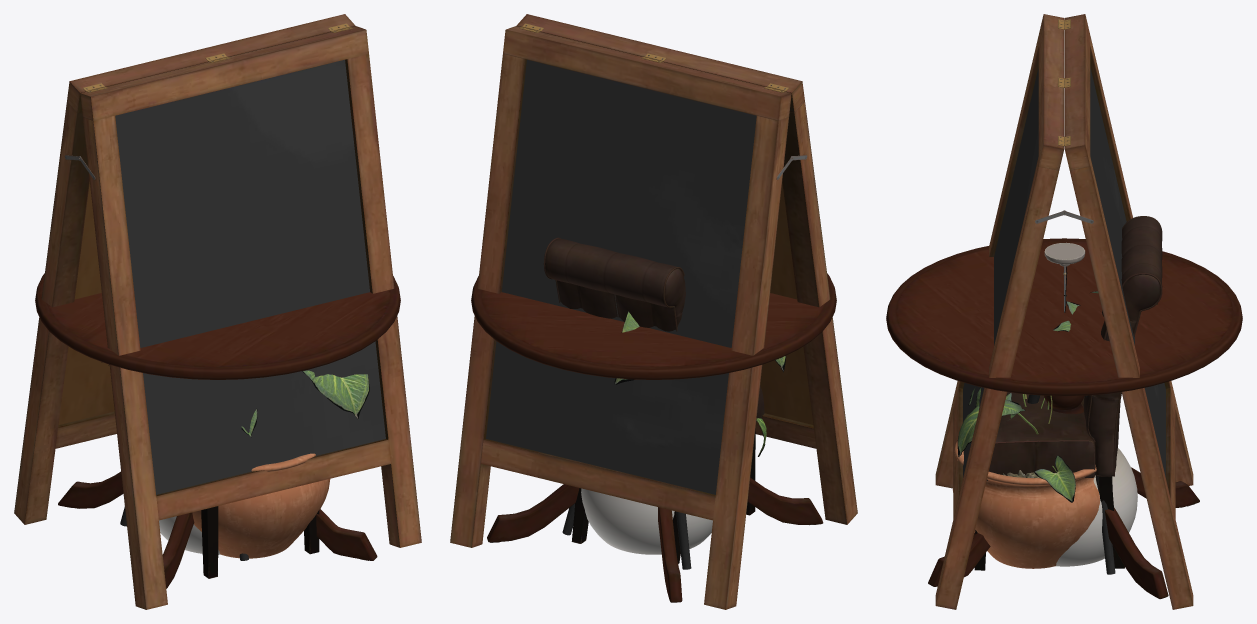
File: cafe.glb
3 views of the same model, side by side, from view 1: azimuth 30°, elevation 25°; view 2: azimuth 150°, elevation 25°; view 3: azimuth 270°, elevation 25° (orthographic). The views are drawn at different scales.
Parts seen in each view (by area): view 1: standing_chalkboard_01, round_wooden_table_01, potted_plant_02_pot, potted_plant_02_leaves, dining_chair_02, modern_ceiling_lamp_01; view 2: standing_chalkboard_01, round_wooden_table_01, dining_chair_02, modern_ceiling_lamp_01, aws_ChairB_01_visual_node, potted_plant_02_leaves; view 3: standing_chalkboard_01, round_wooden_table_01, dining_chair_02, potted_plant_02_pot, modern_ceiling_lamp_01, potted_plant_02_leaves, aws_ChairB_01_visual_node.
Part boxes in pixels (x1,y1,x2,y2): standing_chalkboard_01: [14, 14, 421, 609]; round_wooden_table_01: [35, 273, 400, 588]; potted_plant_02_pot: [192, 453, 330, 558]; potted_plant_02_leaves: [101, 362, 369, 437]; dining_chair_02: [201, 506, 319, 578]; modern_ceiling_lamp_01: [159, 516, 220, 554]; standing_chalkboard_01: [450, 14, 857, 609]; round_wooden_table_01: [471, 273, 836, 602]; dining_chair_02: [543, 237, 764, 563]; modern_ceiling_lamp_01: [581, 488, 712, 554]; aws_ChairB_01_visual_node: [562, 503, 691, 569]; potted_plant_02_leaves: [614, 311, 786, 456]; standing_chalkboard_01: [935, 14, 1193, 609]; round_wooden_table_01: [886, 238, 1242, 599]; dining_chair_02: [974, 216, 1162, 570]; potted_plant_02_pot: [952, 440, 1099, 568]; modern_ceiling_lamp_01: [1044, 242, 1137, 566]; potted_plant_02_leaves: [957, 291, 1157, 502]; aws_ChairB_01_visual_node: [1027, 394, 1115, 574].
Size of the model in its own units: 1.05 by 1.51 by 1.05.
Materials: 9 (9 with a texture image).
